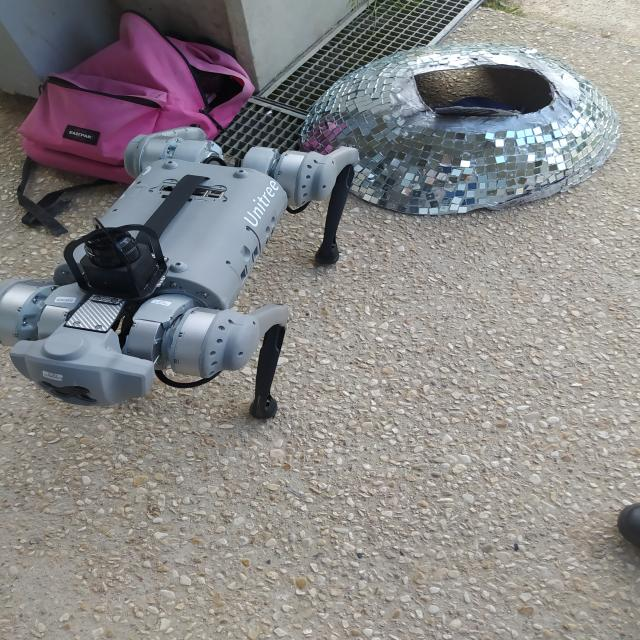unitree-go1-robot: (0, 126, 361, 420)
